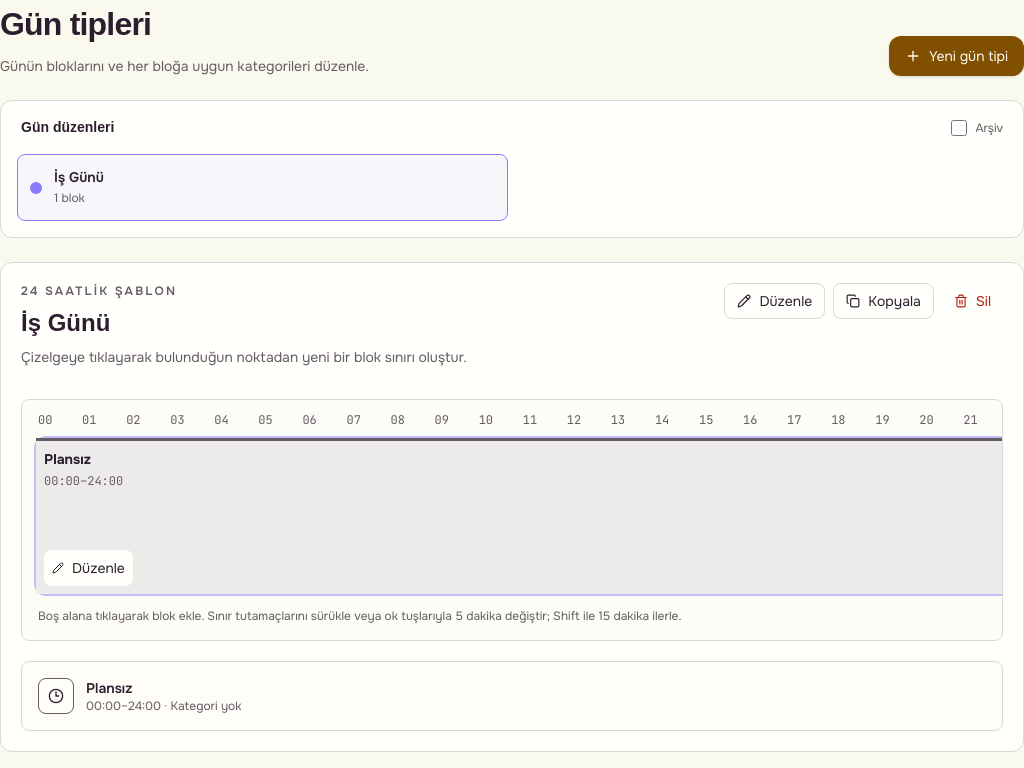
Test: day types page › opens soft deletion confirmation
The image size is (1024, 768).
Click the button "Sil" at [972, 301], box [942,283,1003,319]
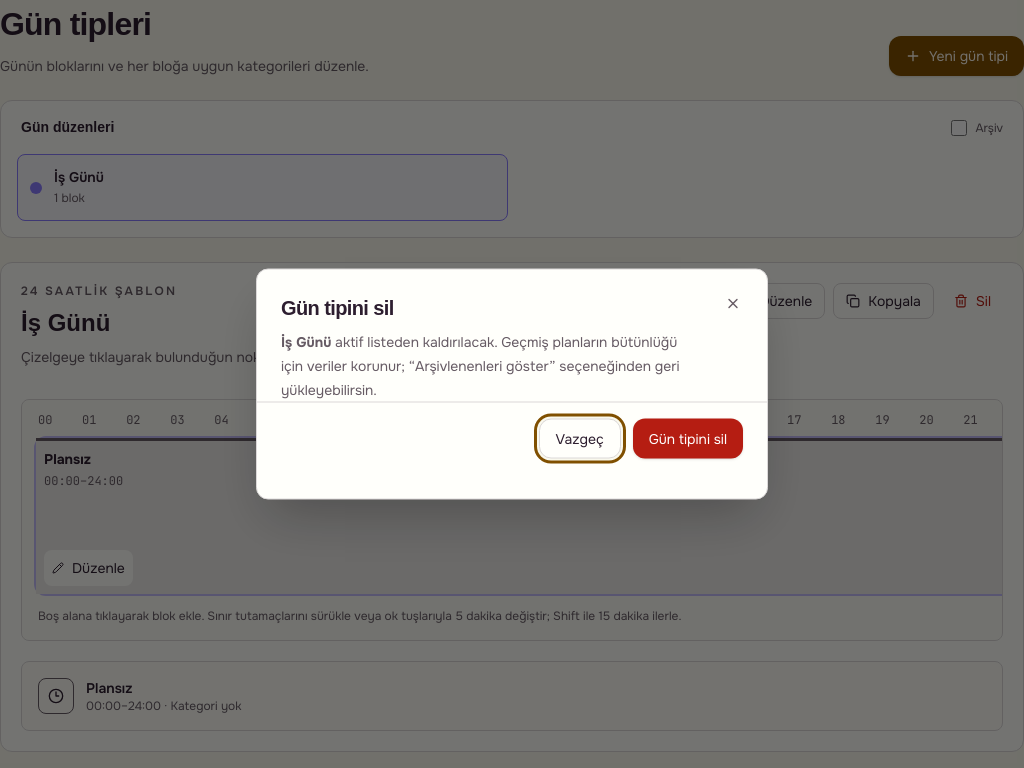
Expected: the heading "Gün tipini sil" is shown, [281,296,394,318]
